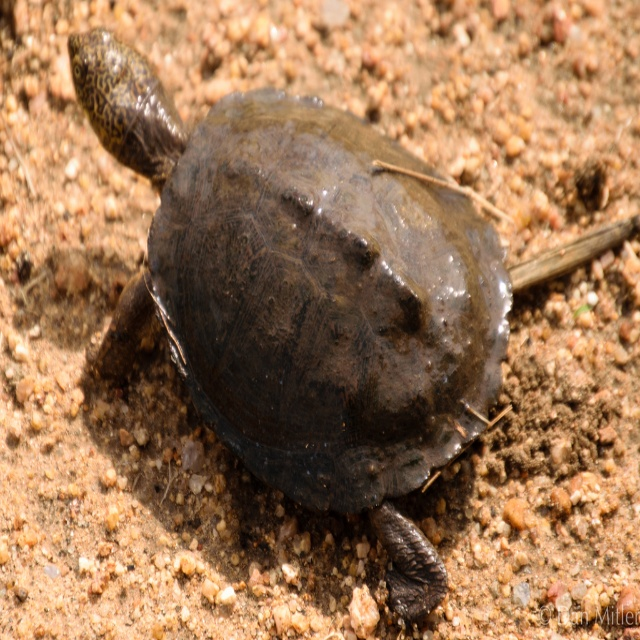Tortoise: (67, 26, 513, 620)
